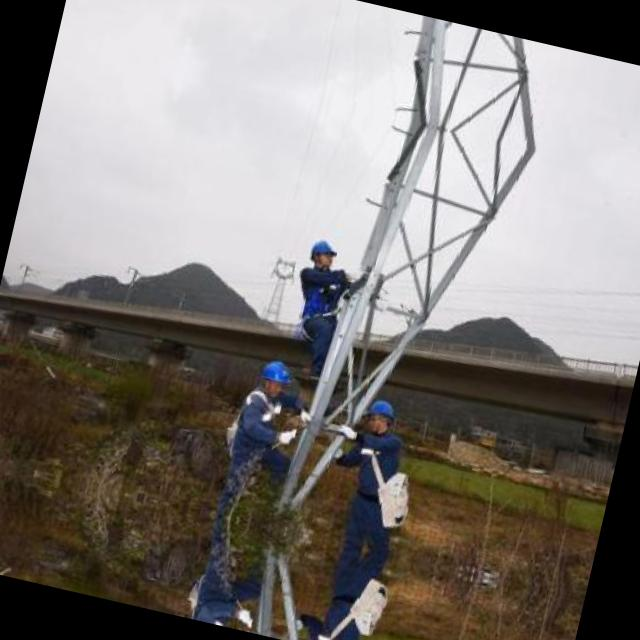helmet: (251, 353, 296, 399), (302, 228, 342, 276), (361, 393, 400, 436)
